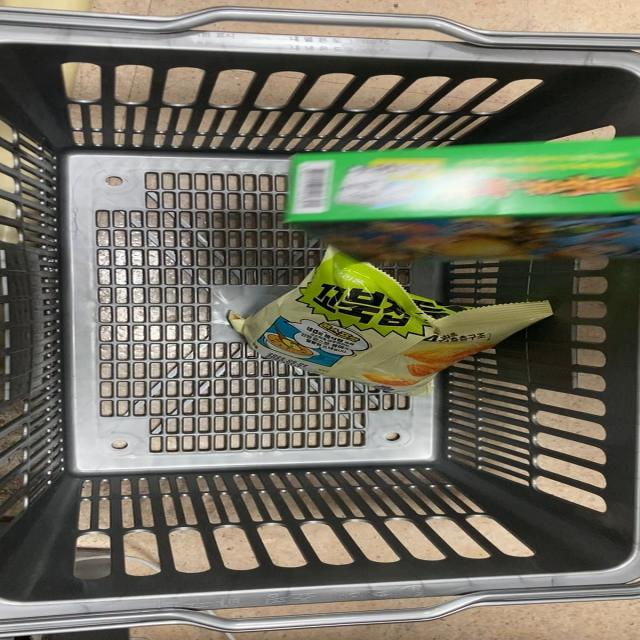ggobukchip: (241, 251, 551, 396)
goraebob: (273, 128, 640, 250)
